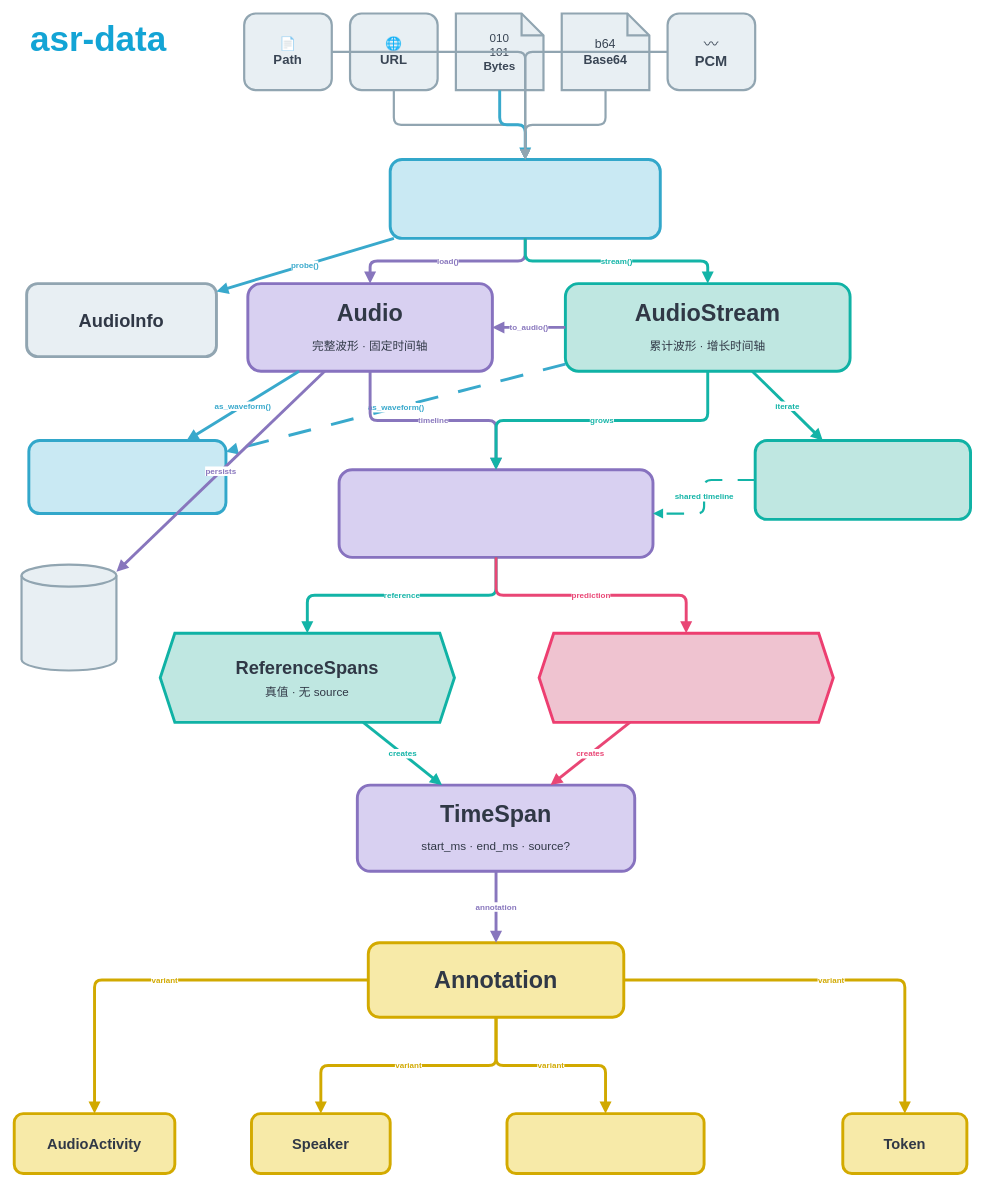
The diagram is 984 pixels wide and 1188 high, and some of its shapes have lost their labels. The shapes that lost their labels are listed below. From the top down, each one's centre as x and y in pixels, then its label:
At point 524,198: "AudioSource".
At point 127,477: "Waveform".
At point 862,479: "AudioChunk 局部波形 · index · offset_ms 共享 metadata 与全局时间轴".
At point 495,513: "Timeline 每个声道一个 · 已接收范围可标注".
At point 68,617: "AudioDB".
At point 685,677: "PredictionSpans 模型结果 · source 必填".
At point 605,1143: "Transcription".
